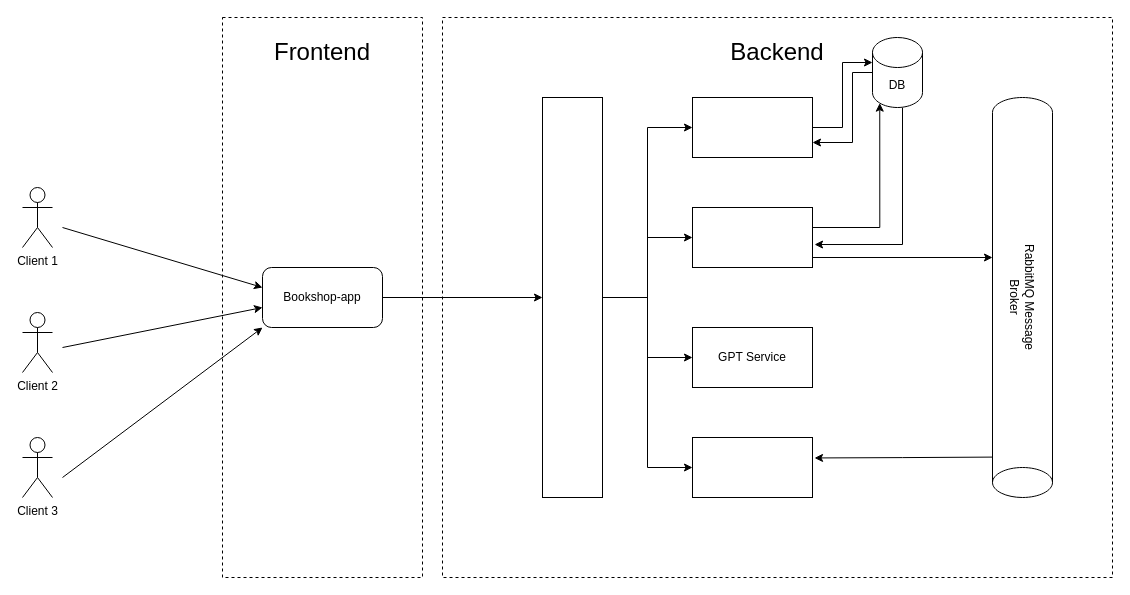
The diagram is 1130 pixels wide and 595 high, and some of its shapes have lost their labels. Here are the shapes that lost their labels. From the top down, the centre of each, then its label:
the point at 752,127: Book Service
the point at 752,237: Auth Service
the point at 572,297: API Gateway
the point at 752,467: Notifications Service
